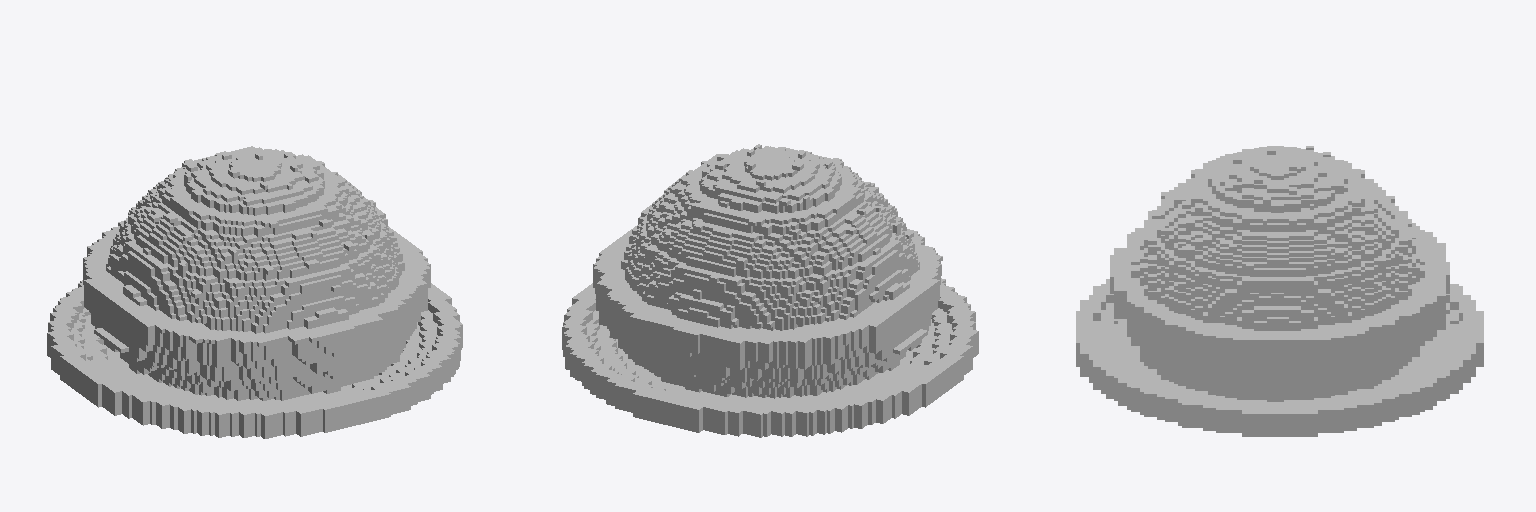
The model's file is HamburguesaSimple.obj.
The picture shows the model from 3 angles: view 1: azimuth 30°, elevation 25°; view 2: azimuth 150°, elevation 25°; view 3: azimuth 270°, elevation 25°; orthographic projection.
Visible parts, largest first — view 1: object 1; view 2: object 1; view 3: object 1.
Boxes of the visible parts, box(x1,y1,x2,y2) form: object 1: box(47, 146, 462, 438); object 1: box(562, 144, 978, 437); object 1: box(1076, 146, 1483, 436).
Bounding box in the file's own units: 9.6 × 4.9 × 9.6.